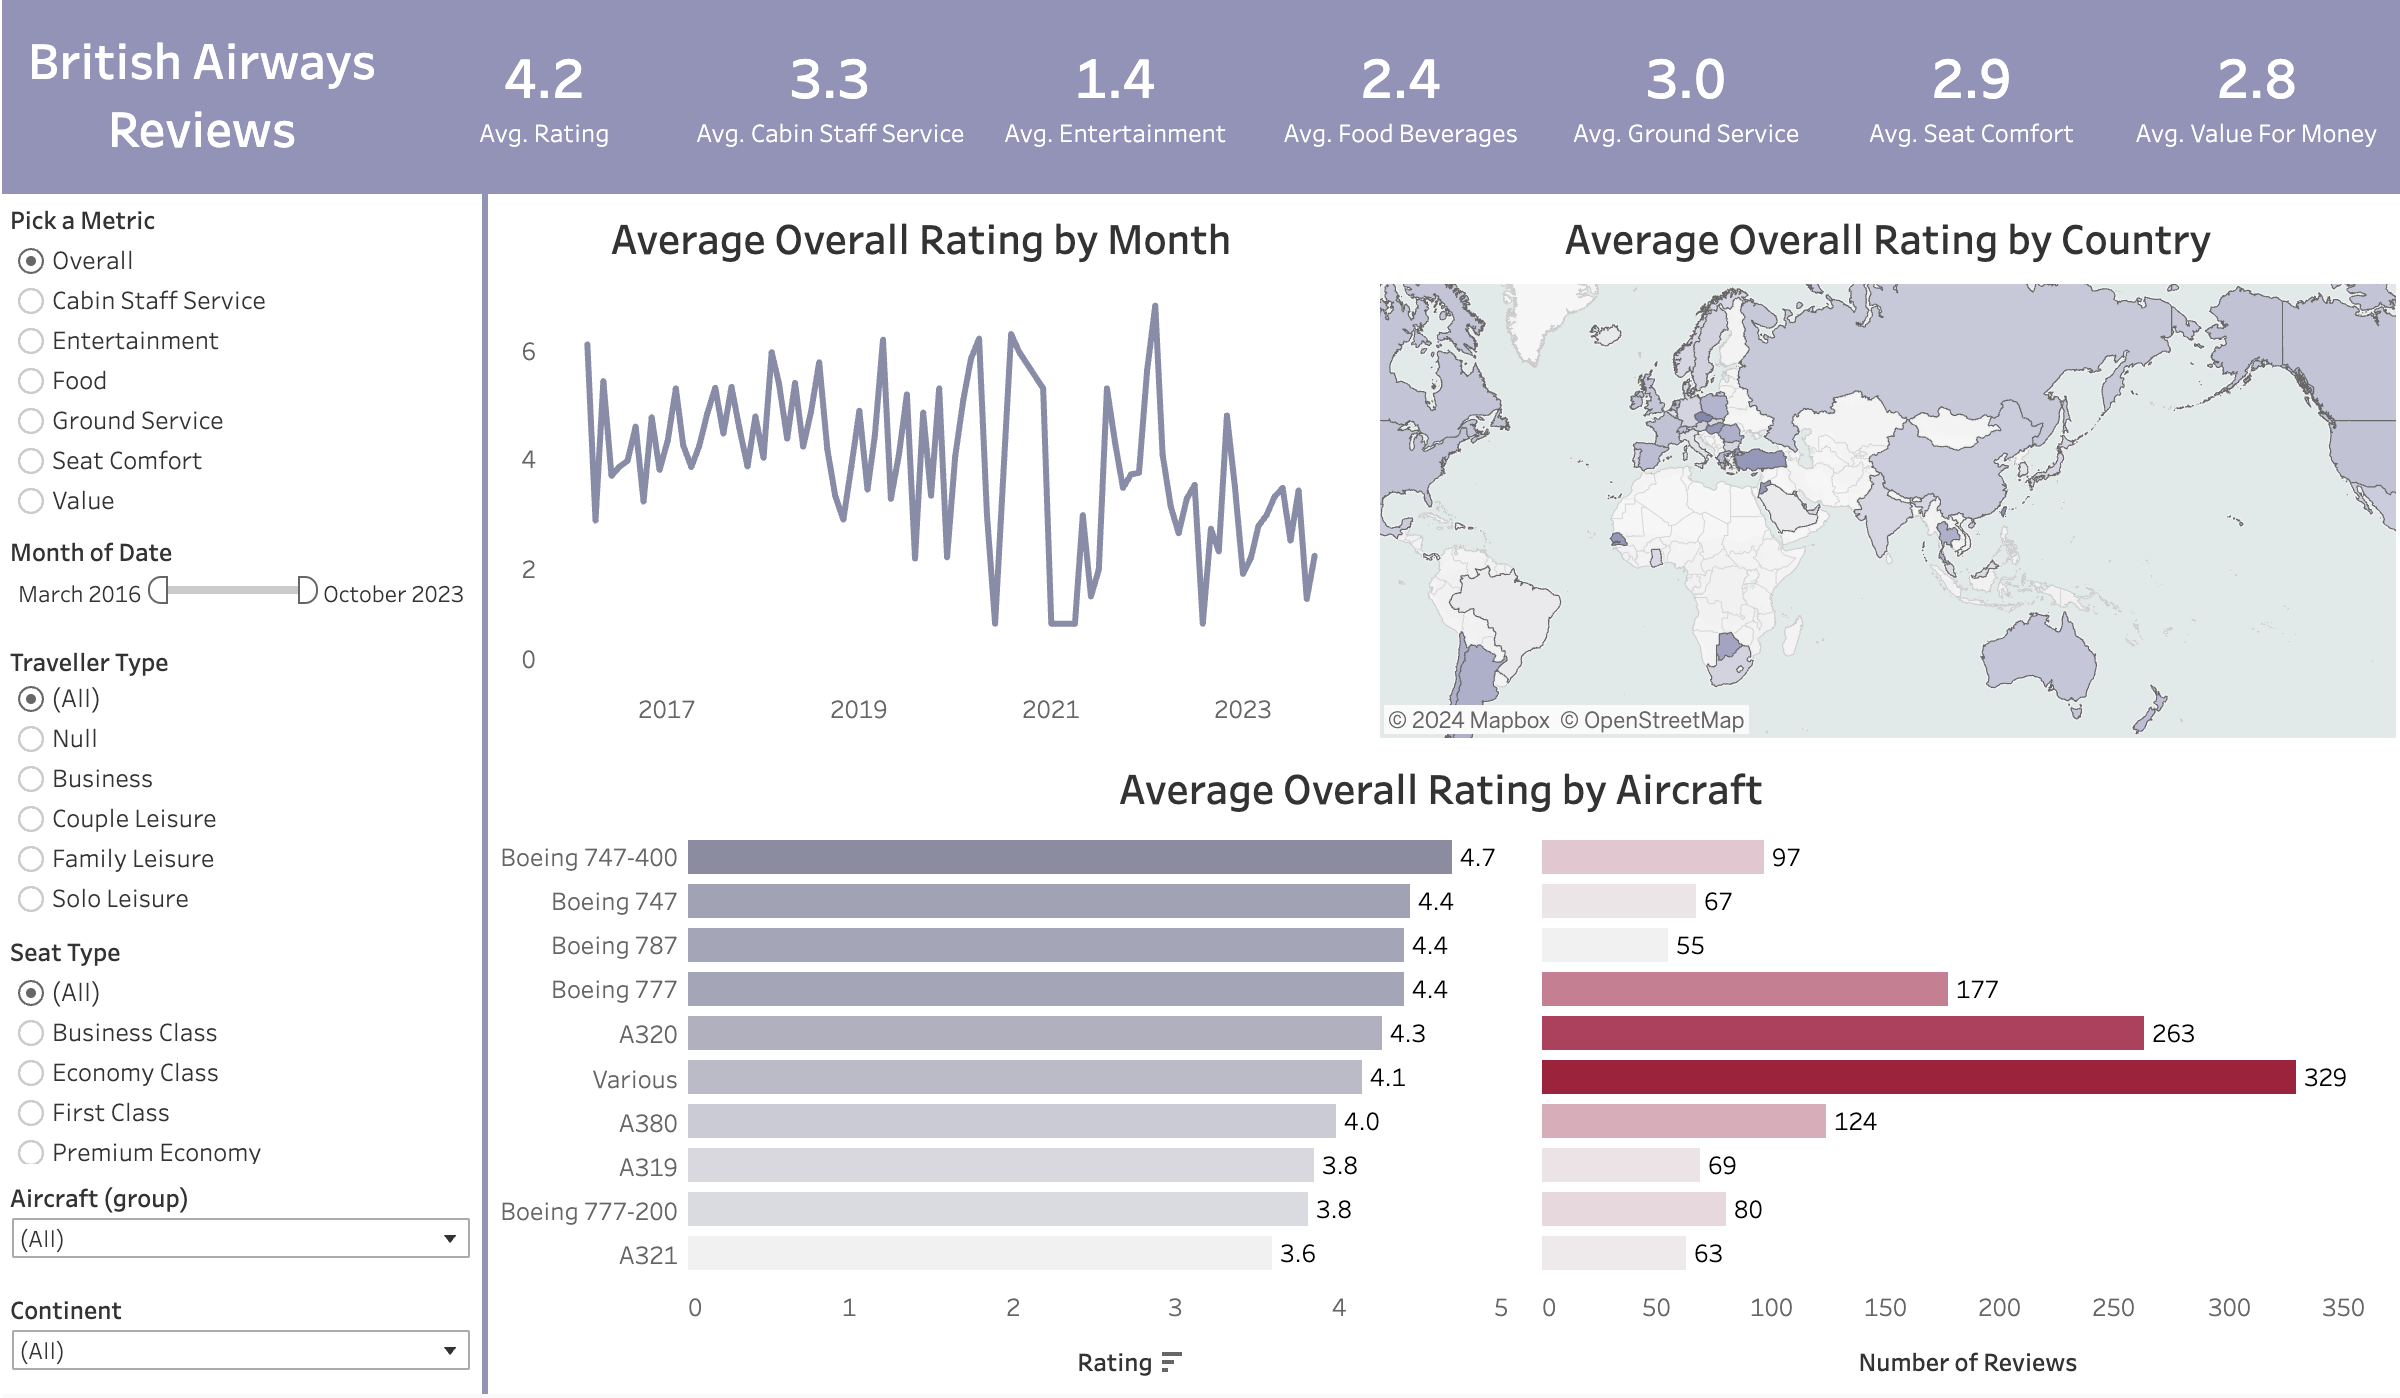

This screenshot's page, from the dashboard's own definition file:
{"tool":"tableau","page":{"name":"British Airlines Reviews Dashboard","canvas":[1200,700],"ordinal":0},"visuals":[{"type":"text","box":[0,0,200,100]},{"type":"worksheet","title":"Summary","mark":"Automatic","box":[200,0,999,100]},{"type":"parameter","param":"[Parameters].[Parameter 1]","box":[0,100,239,166]},{"type":"blank","box":[240,100,3,600]},{"type":"worksheet","title":"Month","mark":"Automatic","rows":["Calculation_1644095350366212096"],"cols":["date"],"box":[243,102,433,270]},{"type":"worksheet","title":"Map","mark":"Automatic","box":[689,102,508,270]},{"type":"filter","title":"Map","param":"[federated.11x3fmn1pu1wds1goxikx0oihc0h].[tmn:date:qk]","box":[0,266,239,62]},{"type":"filter","title":"Map","param":"[federated.11x3fmn1pu1wds1goxikx0oihc0h].[none:traveller_type:nk]","box":[0,328,239,145]},{"type":"worksheet","title":"Aircraft","mark":"Automatic","cols":["Calculation_1644095350366212096","british_airways_reviews.csv_CB5F1847C4824D56B2144D0D124F4FC6"],"box":[243,377,953,321]},{"type":"filter","title":"Map","param":"[federated.11x3fmn1pu1wds1goxikx0oihc0h].[none:seat_type:nk]","box":[0,473,239,123]},{"type":"filter","title":"Map","param":"[federated.11x3fmn1pu1wds1goxikx0oihc0h].[Aircraft (group)]","box":[0,596,239,52]},{"type":"filter","title":"Map","param":"[federated.11x3fmn1pu1wds1goxikx0oihc0h].[none:Continent:nk]","box":[0,648,239,52]}]}

Visuals, with their boxes in screenshot pixels (x1, y1, x2, y2), scaled from the page's 1200x700 canvas onto the 2400x1398 screenshot:
text: 0, 0, 400, 200
"Summary" worksheet: 400, 0, 2398, 200
parameter: 0, 200, 478, 531
blank: 480, 200, 486, 1397
"Month" worksheet: 486, 204, 1352, 743
"Map" worksheet: 1378, 204, 2394, 743
"Map" filter: 0, 531, 478, 655
"Map" filter: 0, 655, 478, 945
"Aircraft" worksheet: 486, 753, 2392, 1394
"Map" filter: 0, 945, 478, 1190
"Map" filter: 0, 1190, 478, 1294
"Map" filter: 0, 1294, 478, 1397
